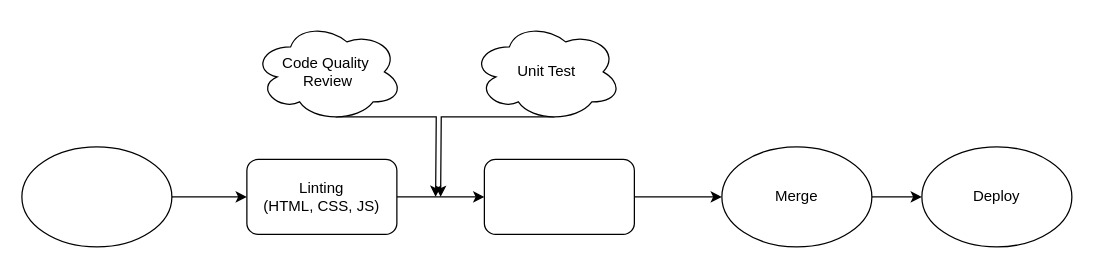
This 1094x269 diagram has some shape labels left out. The box of each missing label's shape, as (x1, y1, x2, y2) in pixels:
Pull Request Review: (483, 158, 634, 234)
Push / Pull Request: (21, 146, 172, 247)
